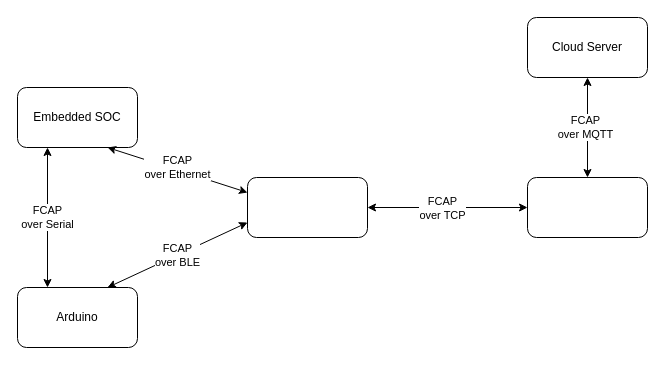
The diagram is 665 pixels wide and 365 high, and some of its shapes have lost their labels. The centre of each missing label's shape, as x and y in pixels:
"Raspberry Pi" goes at (307,207).
"x86 Host" goes at (587,207).
